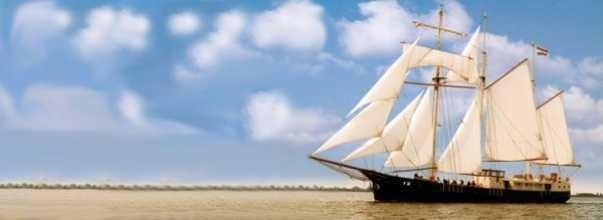fanchuan: (305, 5, 590, 197)
